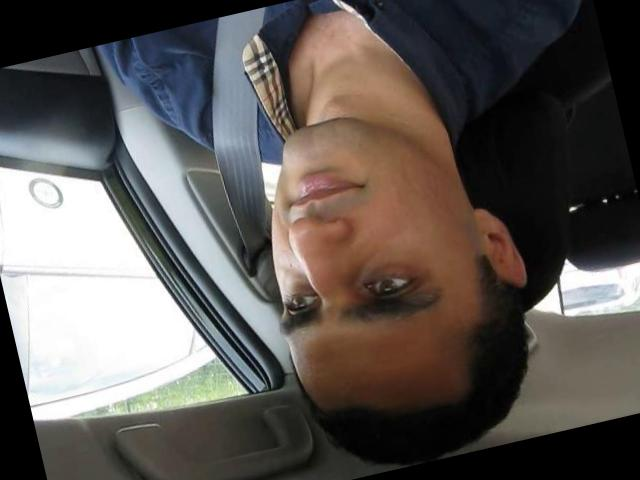eye_open: (356, 260, 422, 305), (286, 288, 320, 314)
face: (236, 96, 478, 374)
